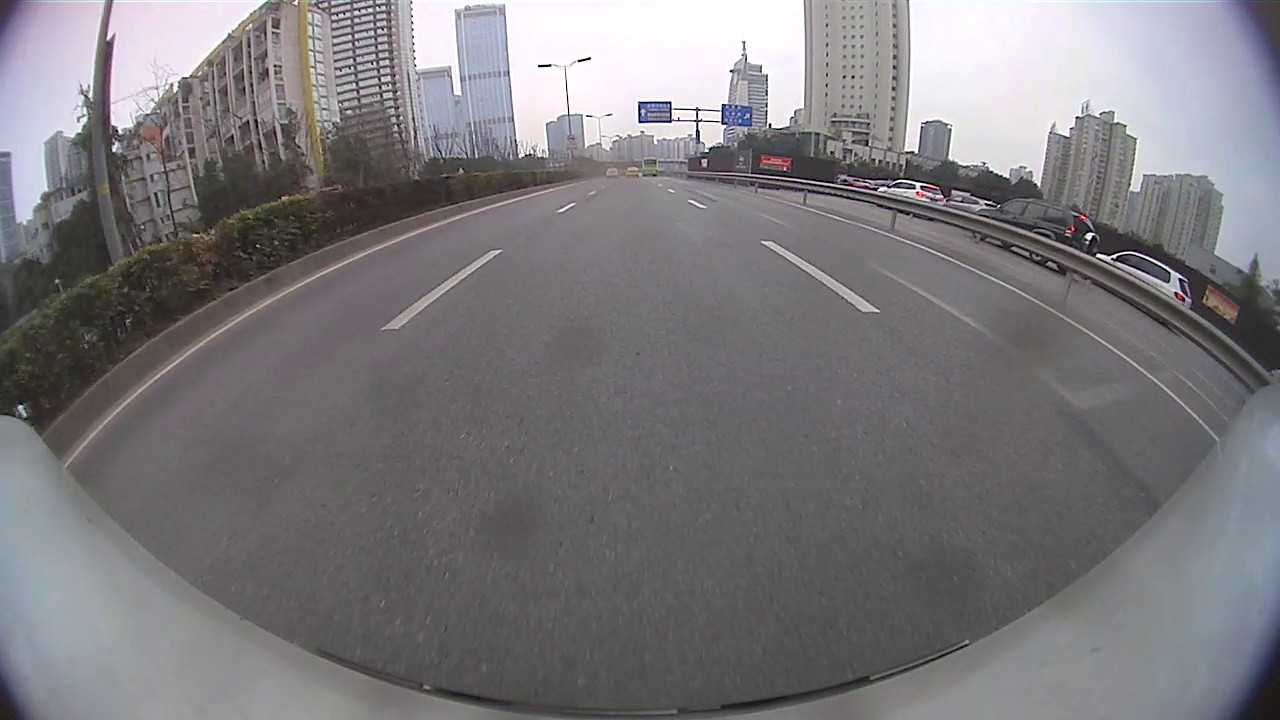car: (974, 198, 1101, 266), (1097, 249, 1192, 309), (877, 179, 945, 208), (945, 194, 996, 217)
